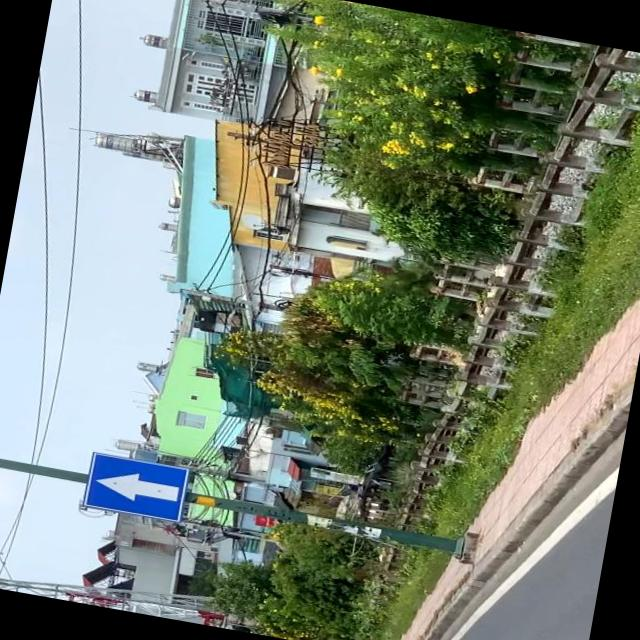I-407a: (83, 452, 190, 522)
